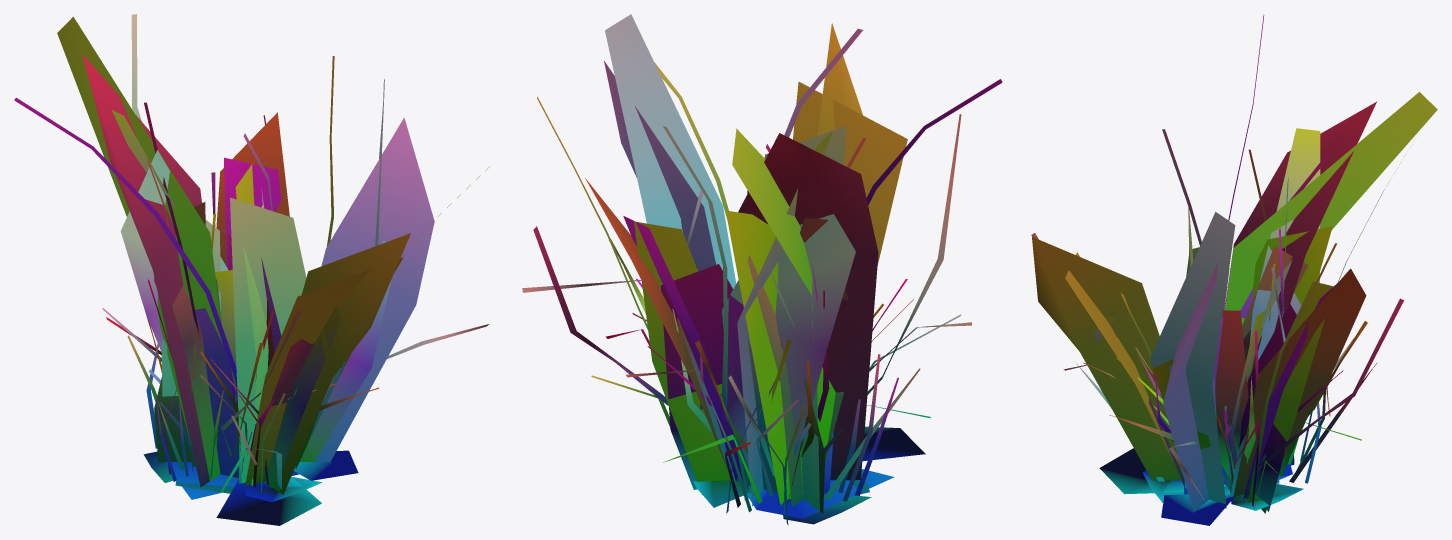
The model's file is uddmcgbia_VarF_LOD0.fbx.
The picture shows the model from 3 angles, left to right: view 1: azimuth 30°, elevation 25°; view 2: azimuth 150°, elevation 25°; view 3: azimuth 270°, elevation 25°; orthographic projection. The views are drawn at different scales.
Visible parts, largest first — view 1: _4577_VarF_LOD2; view 2: _4577_VarF_LOD2; view 3: _4577_VarF_LOD2.
Boxes of the visible parts, x1,y1,x2,y2 form: _4577_VarF_LOD2: (14, 14, 489, 525); _4577_VarF_LOD2: (522, 14, 1002, 525); _4577_VarF_LOD2: (1031, 14, 1437, 525).
Bounding box in the file's own units: 47.44 × 42.69 × 40.83.
